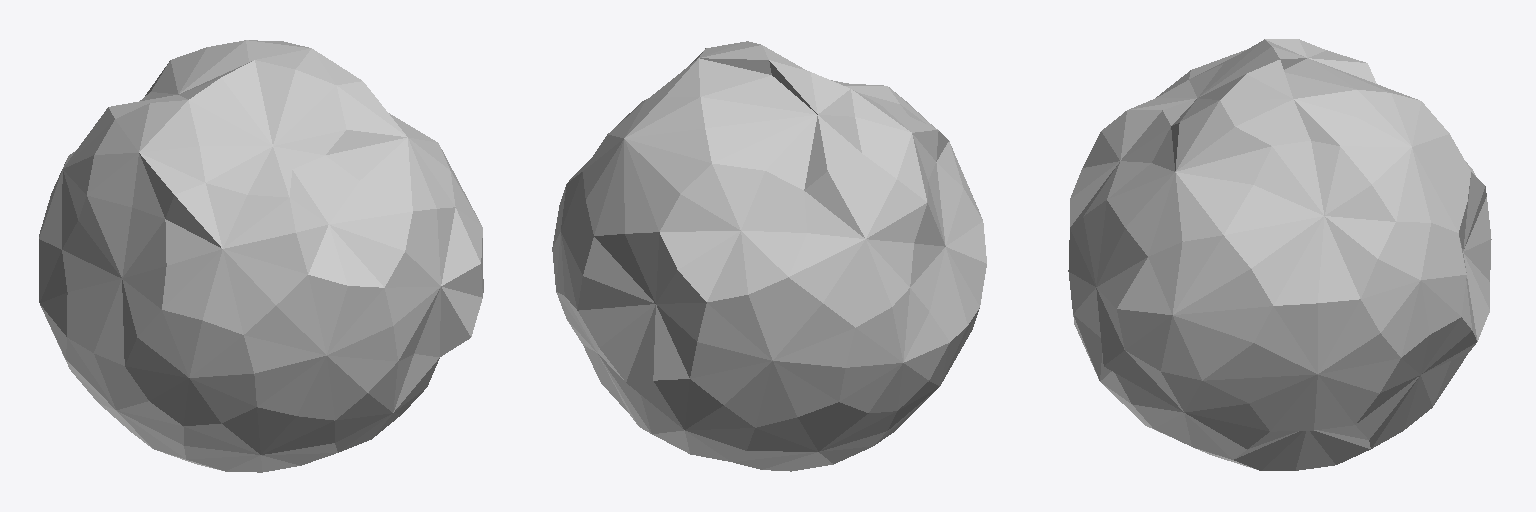
Rendered from planet 1.obj.
3 renders of one model, left to right at view 1: azimuth 30°, elevation 25°; view 2: azimuth 150°, elevation 25°; view 3: azimuth 270°, elevation 25°, orthographic.
Visible parts, largest first — view 1: pSolid3; view 2: pSolid3; view 3: pSolid3.
Part boxes in pixels (bbox=[...]): pSolid3: bbox=[39, 40, 483, 472]; pSolid3: bbox=[552, 41, 986, 471]; pSolid3: bbox=[1068, 39, 1491, 470].
Size of the model in its own units: 234 by 237 by 231.